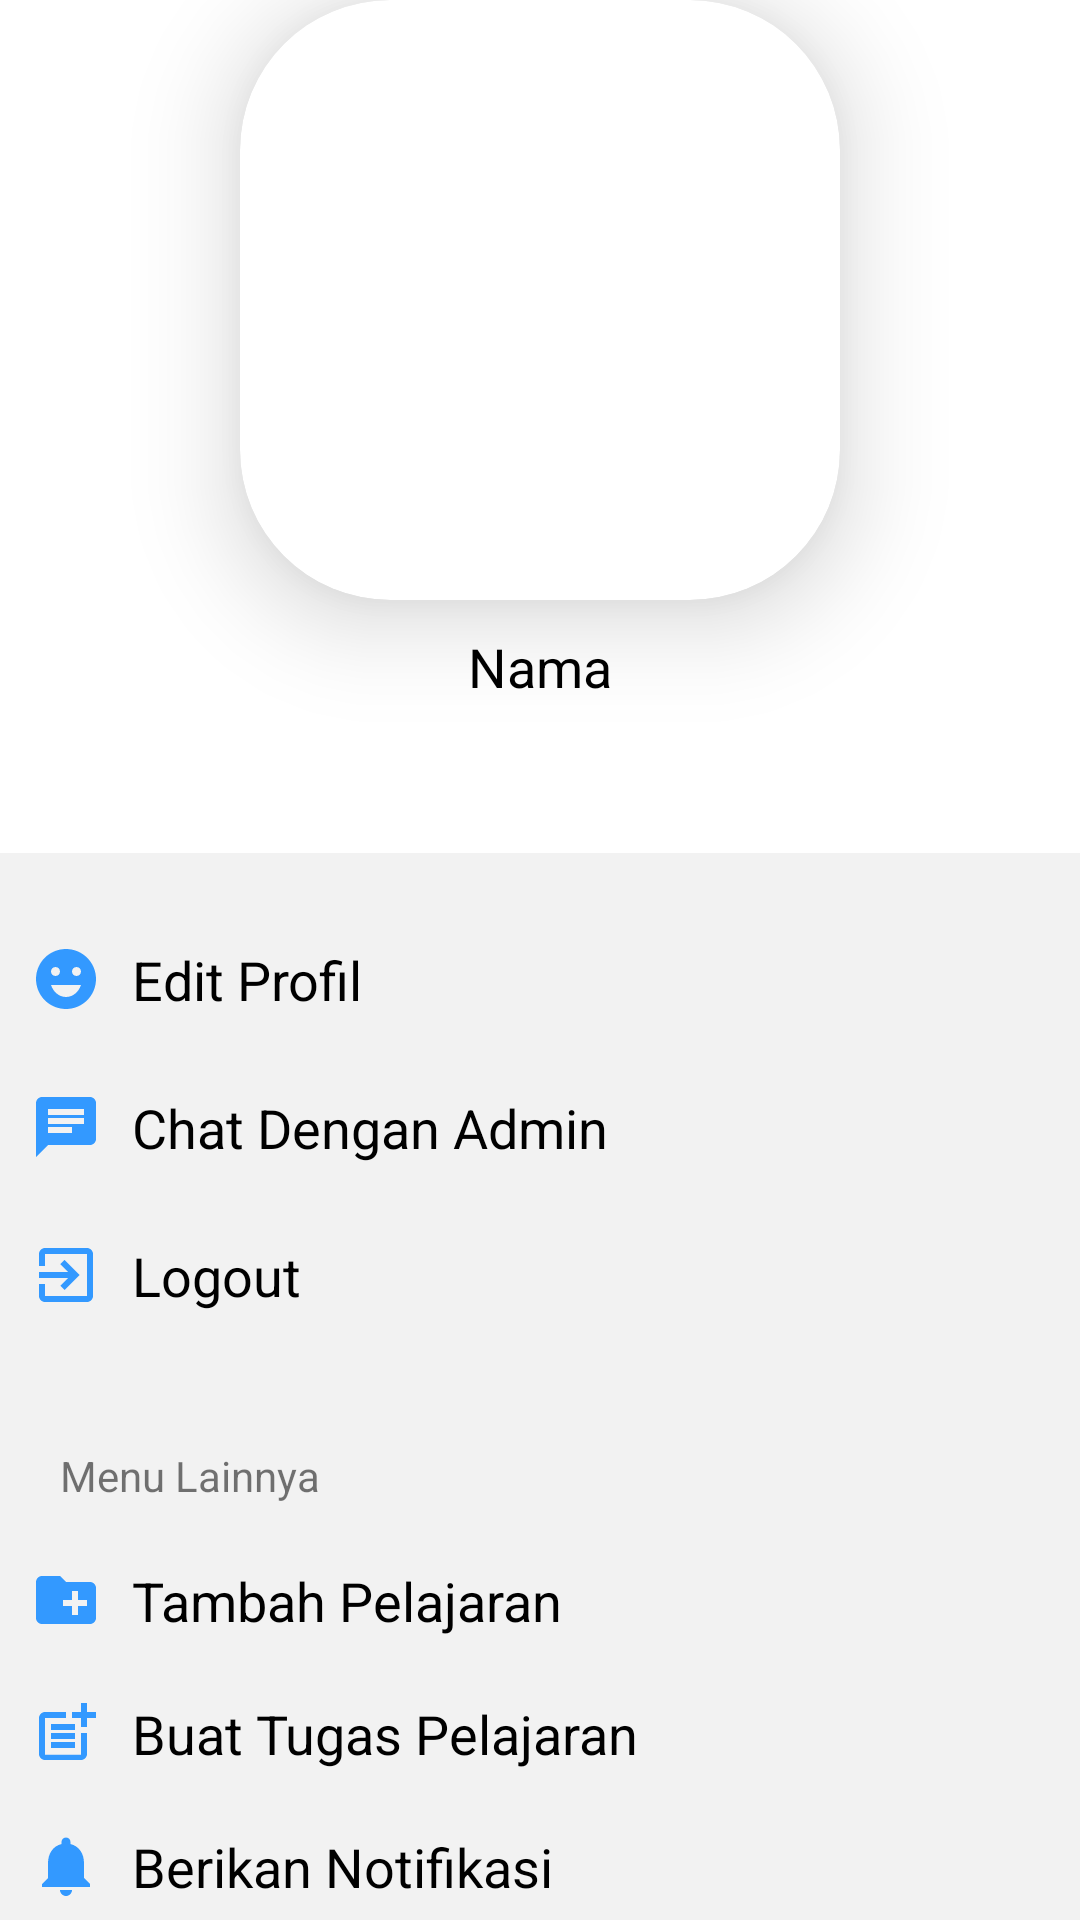

Point at icon controls on the screen. Image size 1080px x 1920px, points as point (x, y).
create folder: point (66, 1600)
emoji emotions: point (66, 979)
exit to app: point (66, 1275)
notifications: point (66, 1866)
post add: point (67, 1731)
